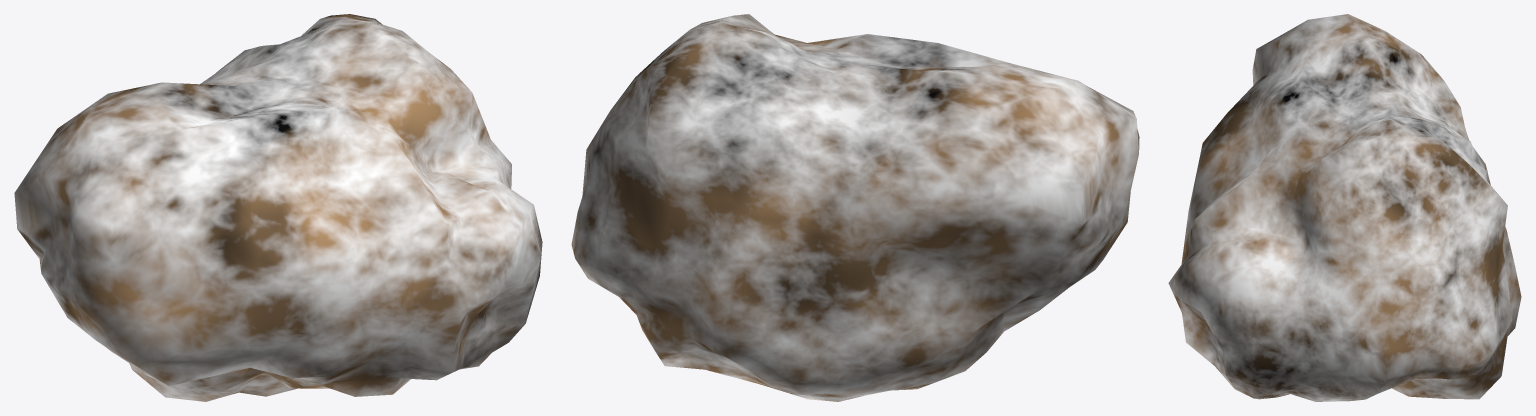
The model's file is Asteroid_000.fbx.
3 views of the same model, side by side, from view 1: azimuth 30°, elevation 25°; view 2: azimuth 150°, elevation 25°; view 3: azimuth 270°, elevation 25° (orthographic). The views are drawn at different scales.
Parts seen in each view (by area): view 1: Cube_000; view 2: Cube_000; view 3: Cube_000.
Boxes of the visible parts, box(x1,y1,x2,y2) form: Cube_000: box(14, 14, 542, 401); Cube_000: box(571, 14, 1139, 401); Cube_000: box(1168, 14, 1521, 401).
Size of the model in its own units: 2.63 by 1.76 by 1.9.
